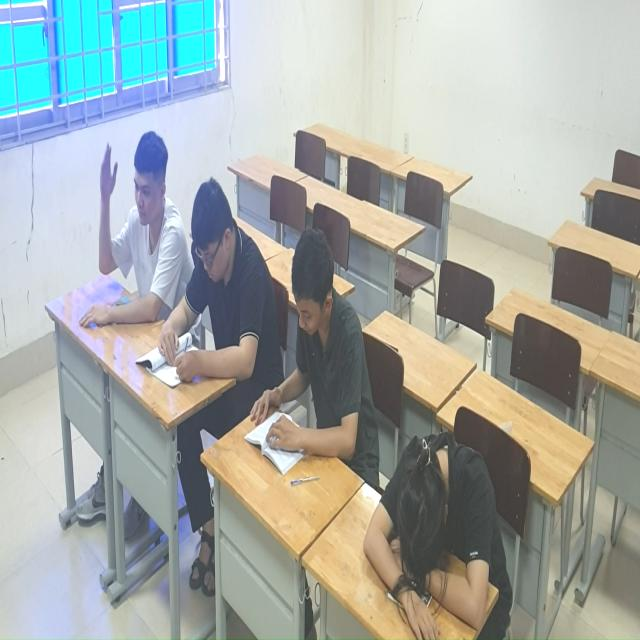raise_hand: (82, 128, 179, 322)
read: (248, 222, 380, 481), (158, 178, 270, 425)
sleep: (348, 439, 519, 640)
